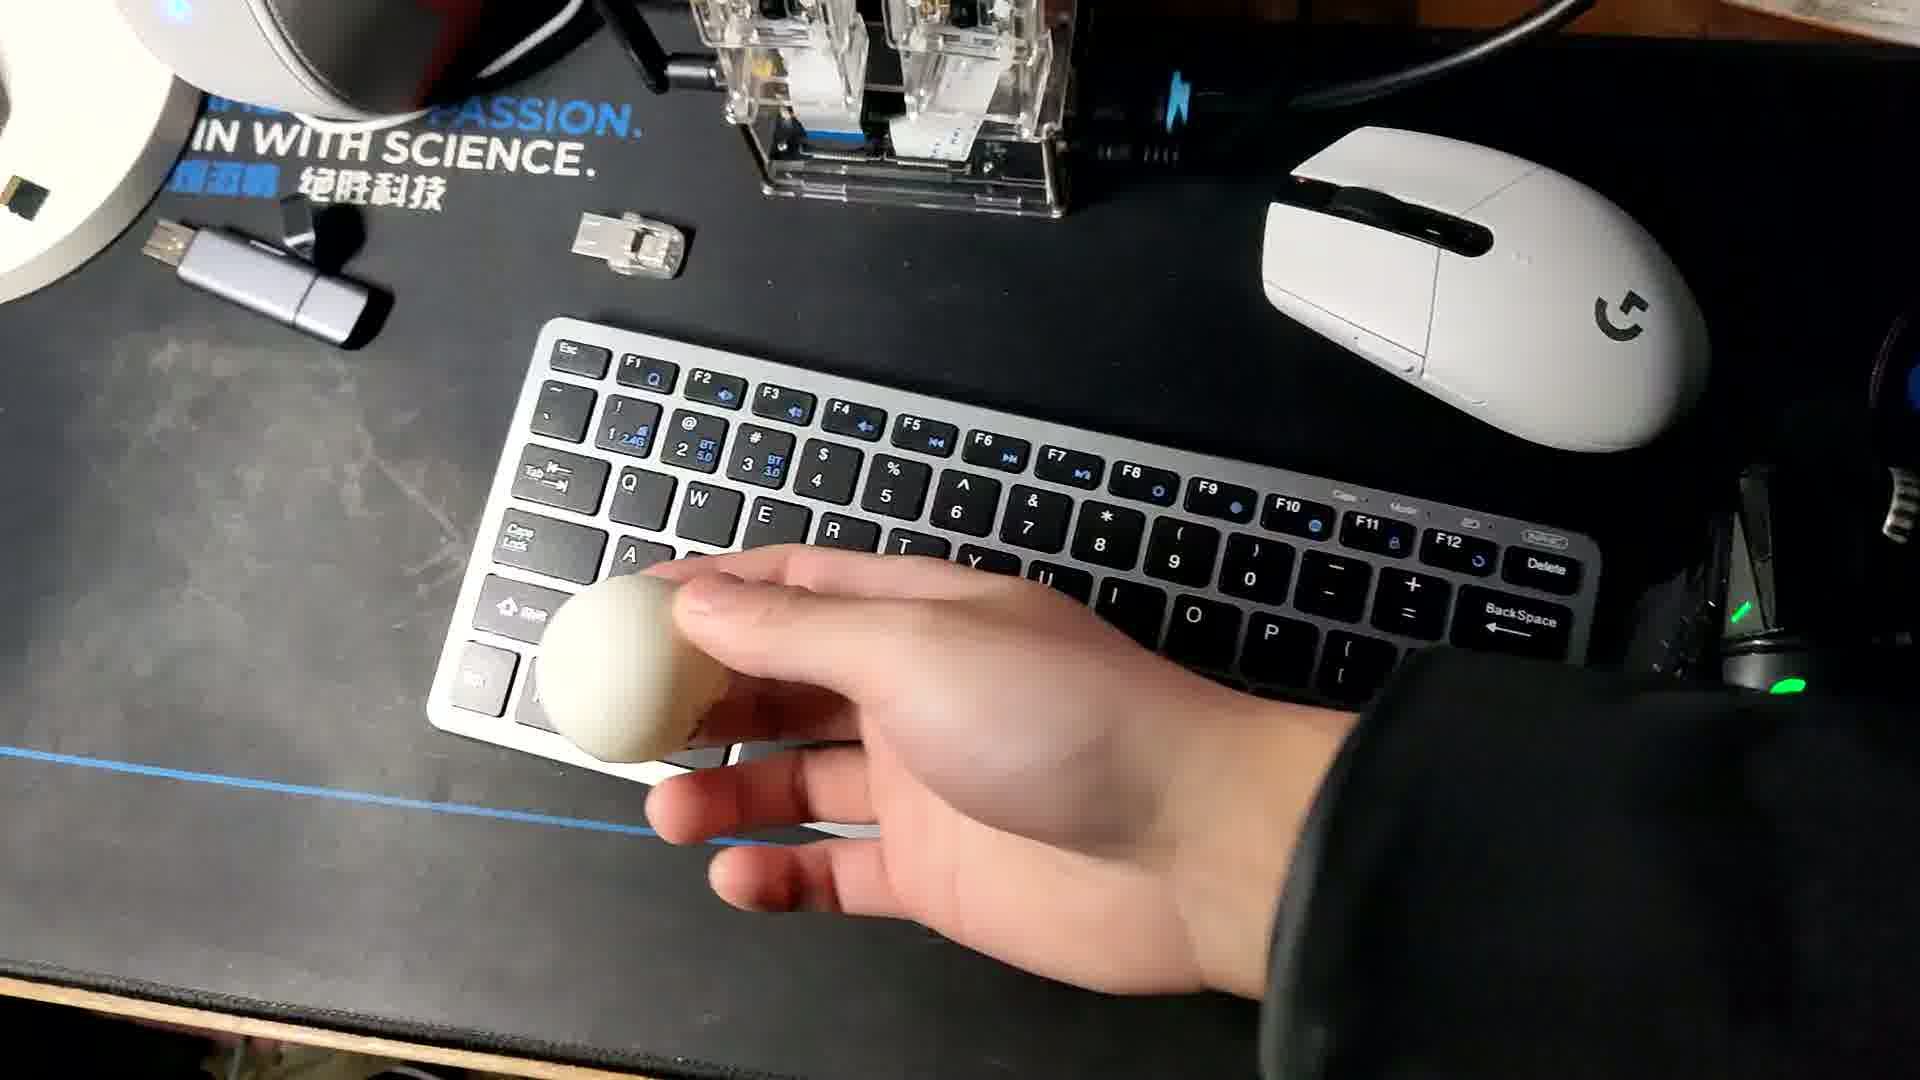Ball: (535, 576, 720, 761)
